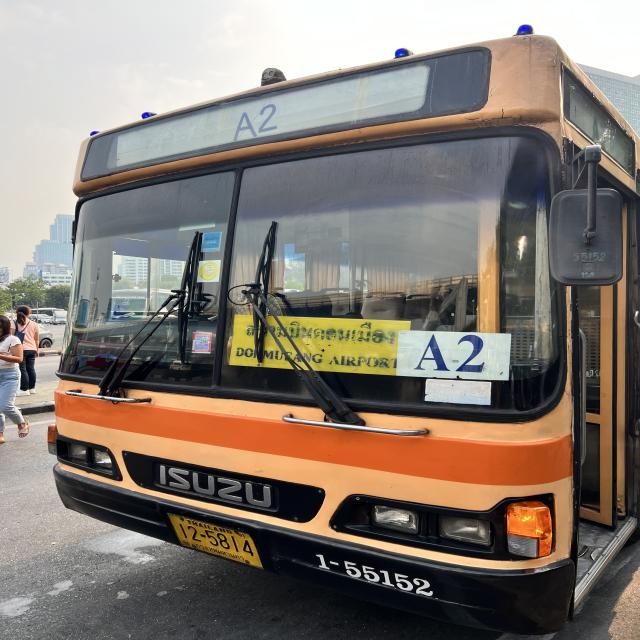BMTA-bus: (41, 21, 640, 640)
Bus-Line-Number: (230, 100, 284, 146)
Destination-Sign-Normal-Expressway: (234, 315, 409, 376)
